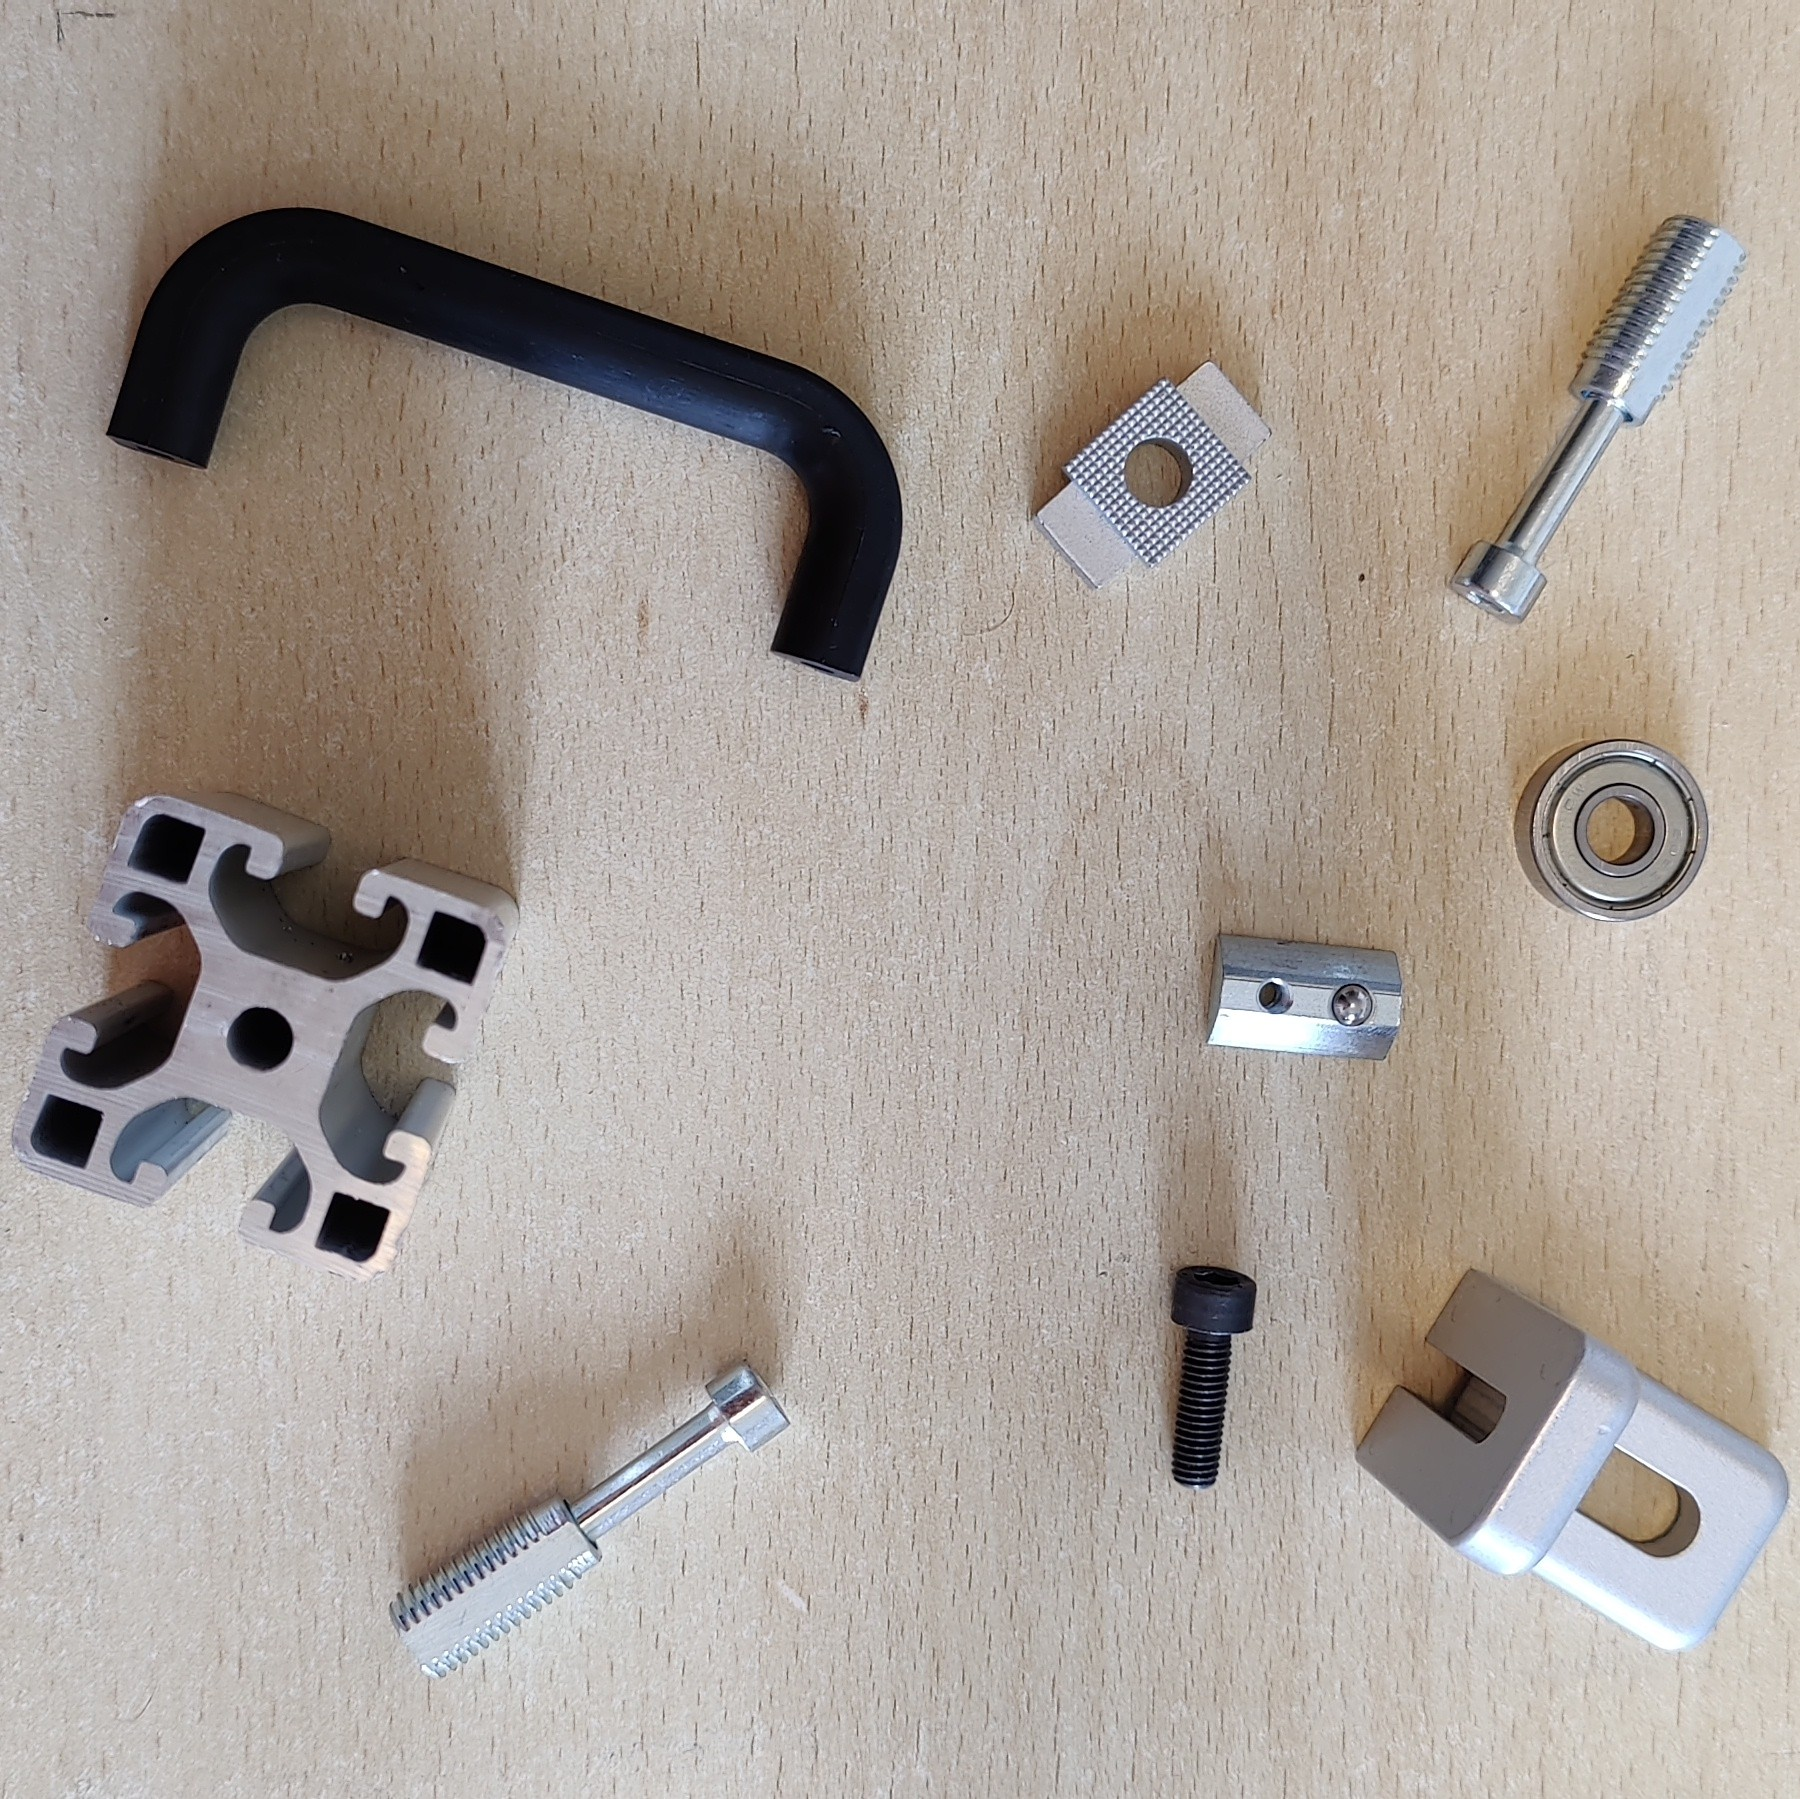Aluminium Extension: (8, 786, 524, 1287)
Ball Bearing: (1512, 733, 1711, 926)
Multiwinkel: (1354, 1264, 1793, 1656)
Pull Handle: (104, 203, 906, 685)
Shoulder Socket Head Cap Screw: (387, 1354, 792, 1684), (1444, 216, 1749, 631)
Socket Head Cap Screw: (1164, 1260, 1258, 1491)
T Nut Square: (1024, 356, 1275, 596)
T Spring Nut: (1197, 928, 1406, 1066)
